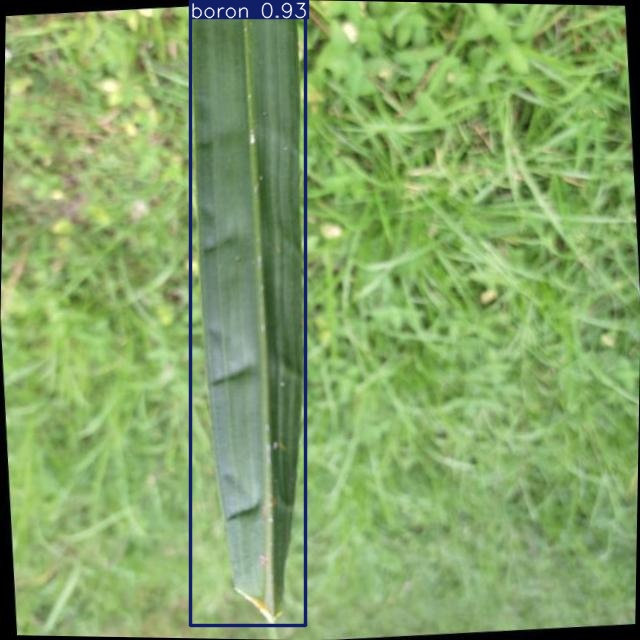nitrogen: (191, 0, 305, 625)
